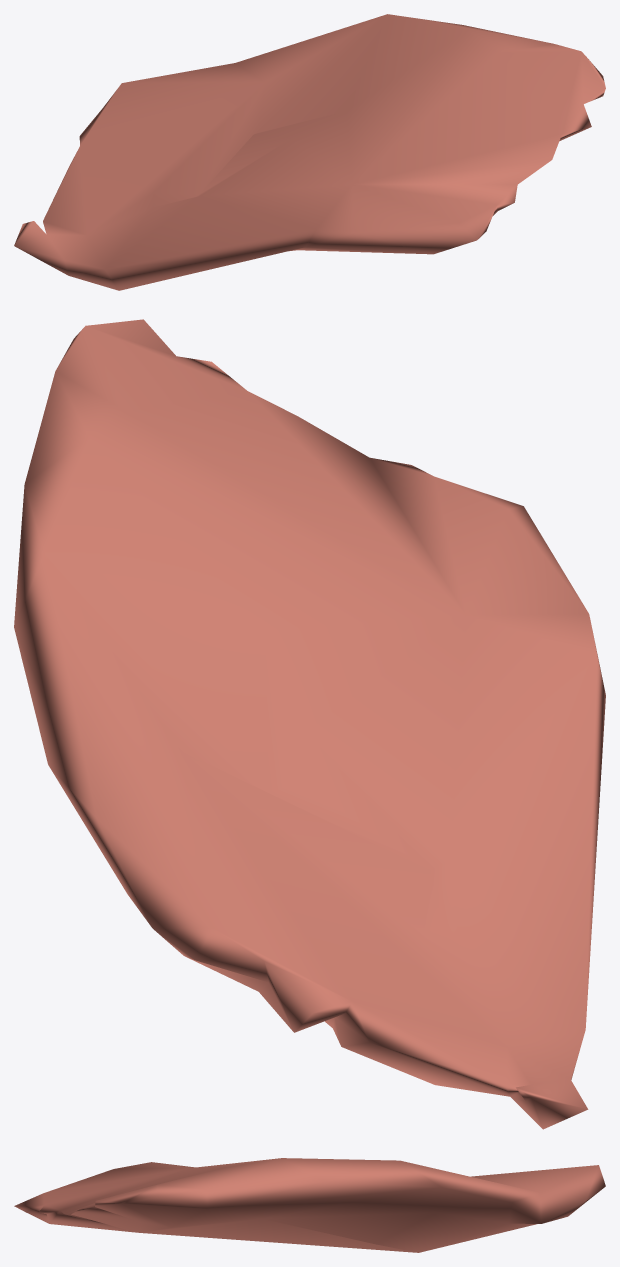
3 renders of one model, top to bottom at view 1: azimuth 30°, elevation 25°; view 2: azimuth 150°, elevation 25°; view 3: azimuth 270°, elevation 25°, orthographic. The views are drawn at different scales.
Visible parts, largest first — view 1: 左侧颏肌; view 2: 左侧颏肌; view 3: 左侧颏肌.
Boxes of the visible parts, x1,y1,x2,y2 form: 左侧颏肌: (14,14,605,290); 左侧颏肌: (14,319,605,1129); 左侧颏肌: (14,1158,605,1252).
Bounding box in the file's own units: 0.0202 × 0.0104 × 0.0217.
